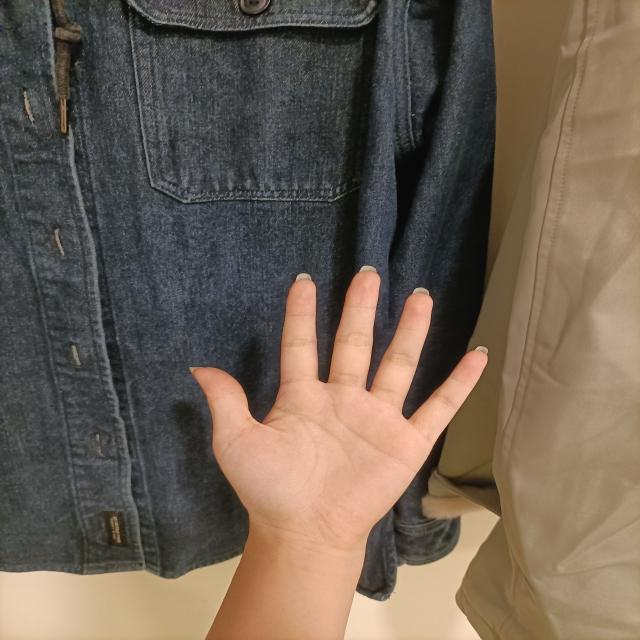no_glove: (170, 256, 502, 565)
